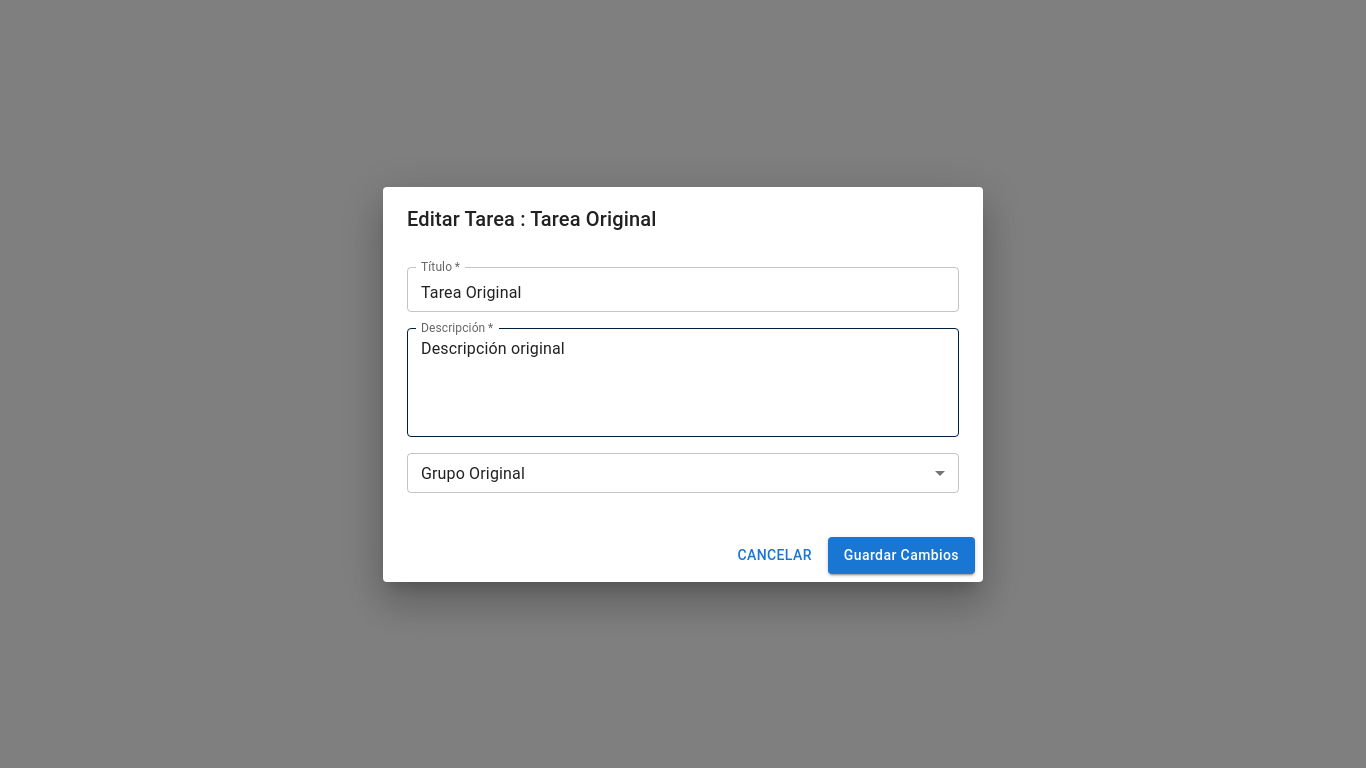
Test: EditAssignmentDialog Component › debería mostrar diálogo de error cuando hay un error
Click the button "Guardar Cambios": (901, 555) [828, 537, 975, 574]
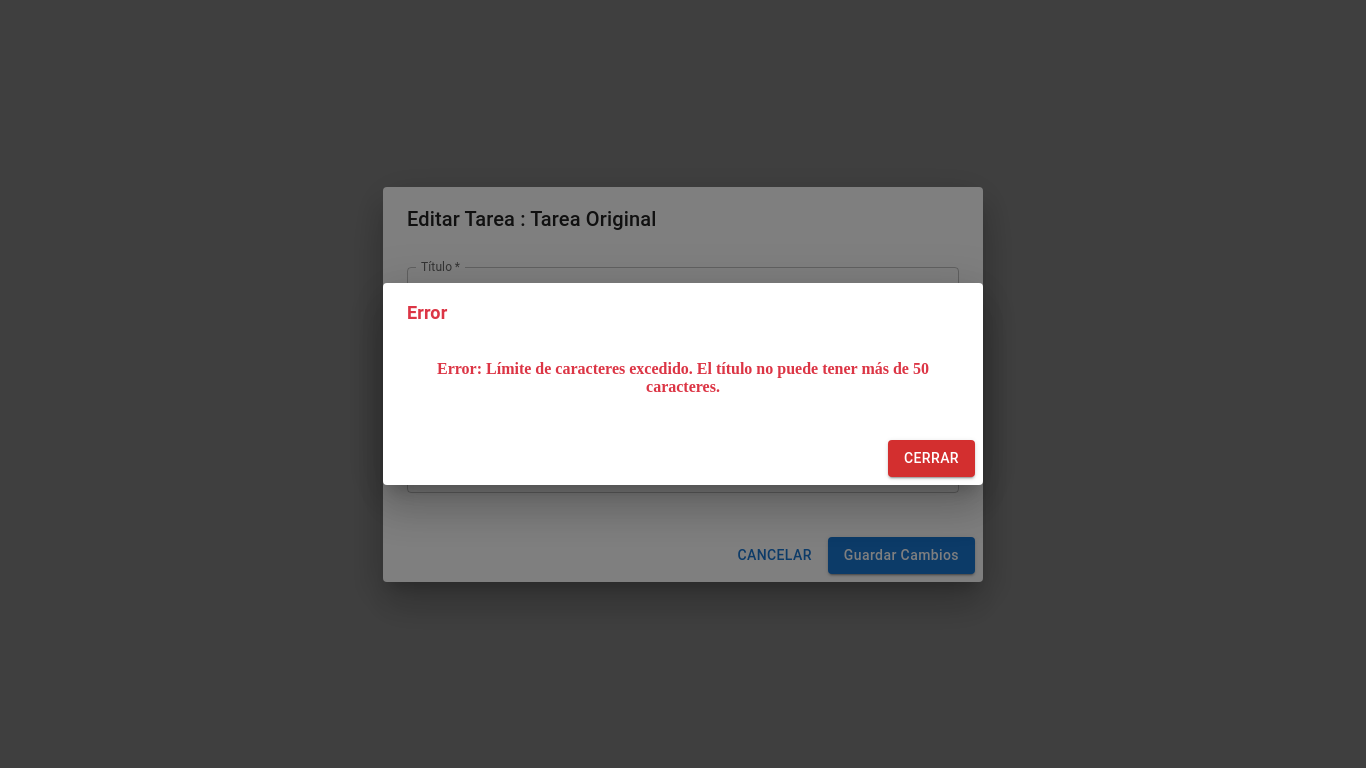
Expected: the heading "Error" is shown, [407, 302, 447, 323]
